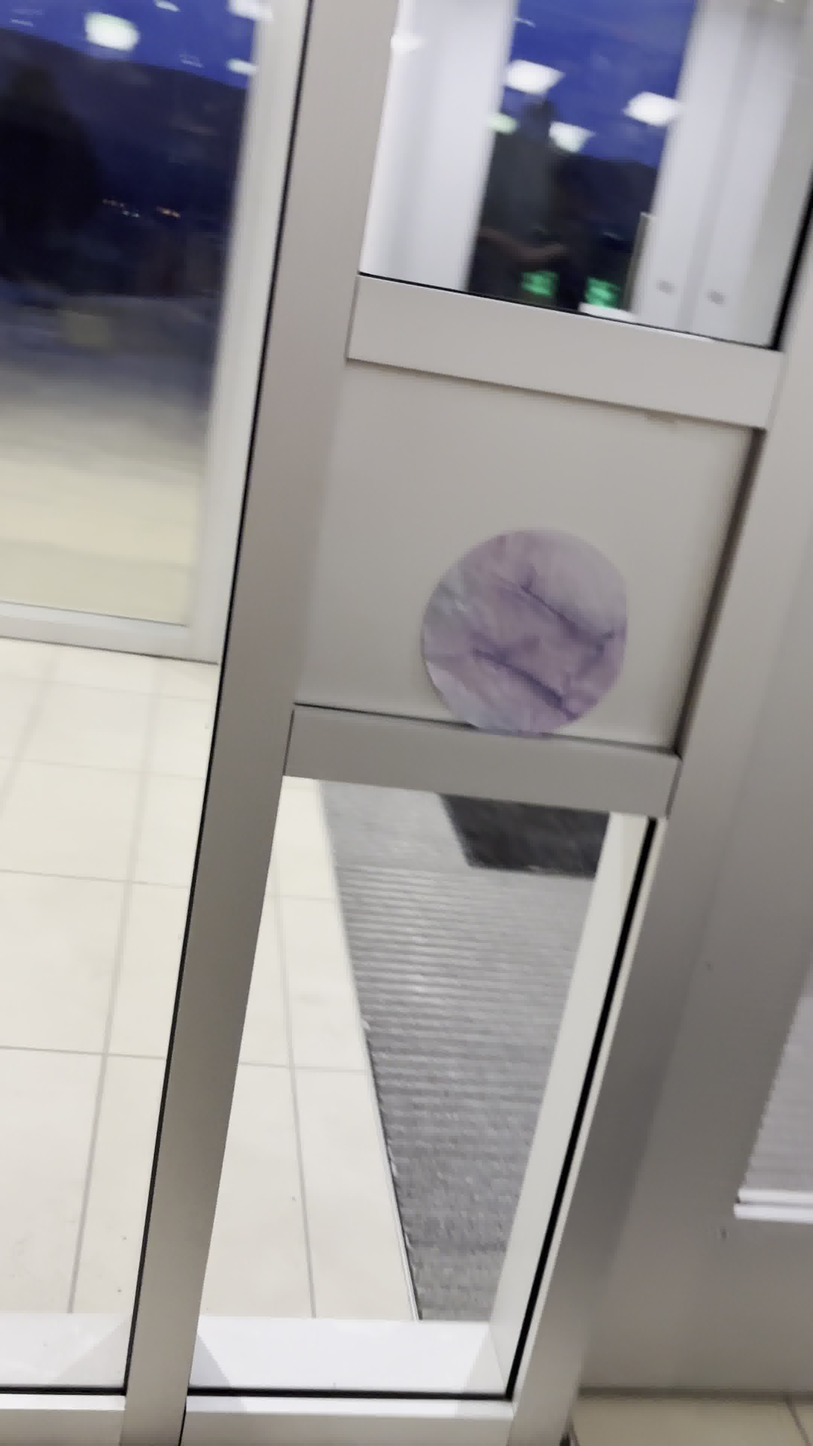Target: (418, 526, 632, 740)
